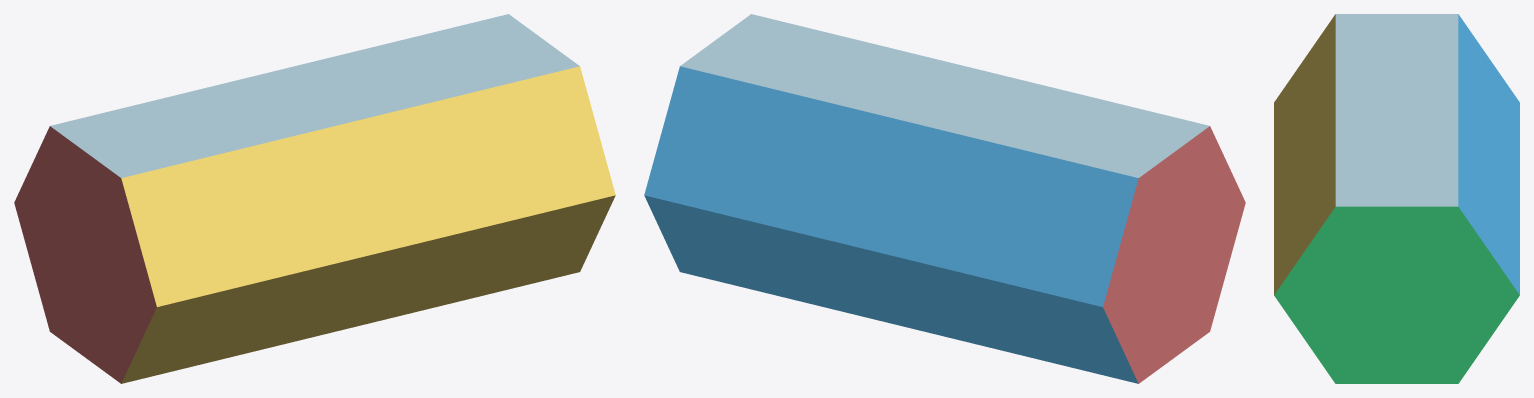
Rendered from lever_handle.obj.
3 renders of one model, left to right at view 1: azimuth 30°, elevation 25°; view 2: azimuth 150°, elevation 25°; view 3: azimuth 270°, elevation 25°, orthographic. The views are drawn at different scales.
Visible parts, largest first — view 1: handle; view 2: handle; view 3: handle.
Part boxes in pixels (x1=…): handle: x1=14, y1=14, x2=615, y2=383; handle: x1=644, y1=14, x2=1245, y2=383; handle: x1=1274, y1=14, x2=1519, y2=383.
Size of the model in its own units: 0.0875 by 0.0375 by 0.0472.
1 material, 1 textured.
